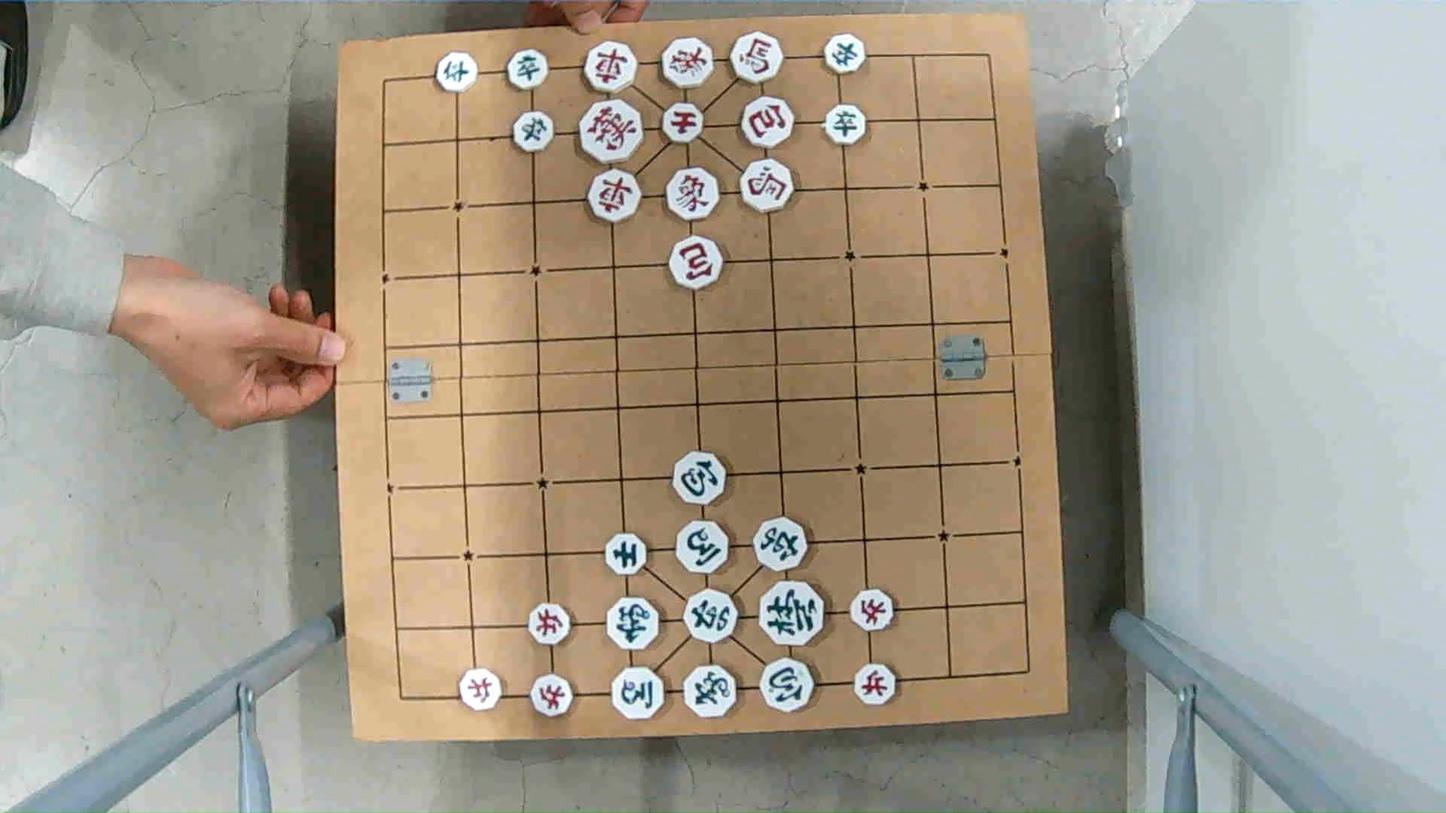cha_green: (682, 592, 739, 642), (752, 519, 810, 568)
cha_red: (585, 41, 638, 91), (591, 172, 645, 218)
jol_green: (437, 53, 480, 95), (822, 107, 865, 145), (505, 50, 547, 88), (821, 35, 864, 72), (514, 114, 557, 151)
jol_red: (850, 589, 896, 628), (532, 674, 575, 715), (526, 606, 571, 645), (855, 665, 898, 704), (460, 670, 504, 708)
ma_green: (677, 520, 734, 573), (612, 667, 670, 717)
ma_red: (739, 162, 795, 212), (733, 35, 787, 82)
po_green: (760, 660, 816, 710), (674, 456, 728, 505)
po_red: (667, 239, 723, 290), (740, 100, 795, 148)
sa_green: (605, 533, 650, 574)
sa_red: (664, 105, 707, 143)
sang_green: (682, 662, 739, 716), (605, 597, 663, 650)
sang_red: (668, 168, 721, 223), (660, 38, 715, 87)
wang_green: (761, 586, 825, 645)
wang_red: (580, 99, 648, 163)
